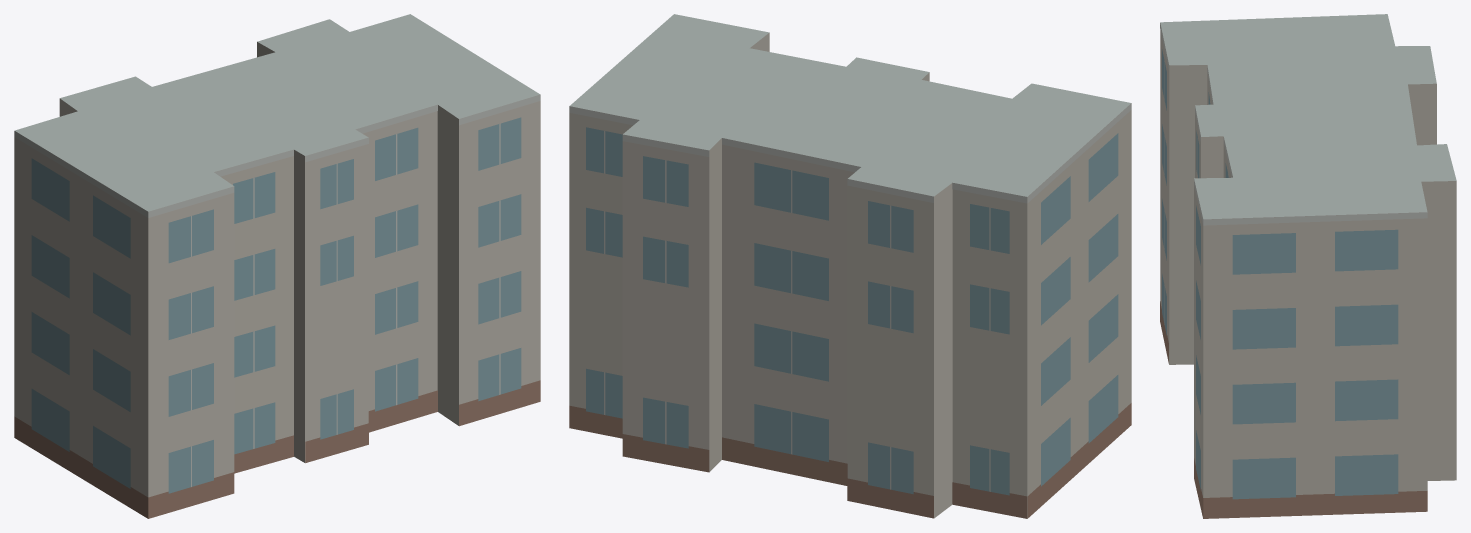
File: survey-upis-32756463.glb
3 renders of one model, left to right at view 1: azimuth 30°, elevation 25°; view 2: azimuth 150°, elevation 25°; view 3: azimuth 270°, elevation 25°, orthographic. The views are drawn at different scales.
Visible parts, largest first — view 1: survey-upis-32756463.tmp; view 2: survey-upis-32756463.tmp; view 3: survey-upis-32756463.tmp.
Boxes of the visible parts, x1,y1,x2,y2 form: survey-upis-32756463.tmp: (14,14,540,518); survey-upis-32756463.tmp: (569,14,1131,518); survey-upis-32756463.tmp: (1160,14,1456,518).
Size of the model in its own units: 17.36 by 11.8 by 10.6.
